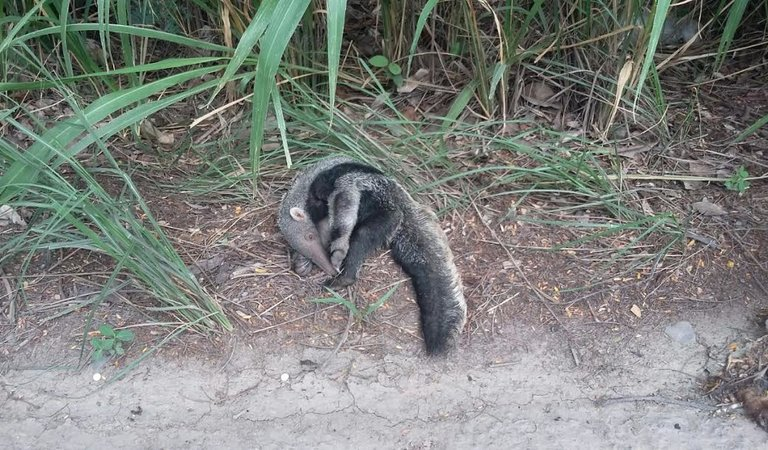TamanduaBandeira: (271, 150, 475, 360)
